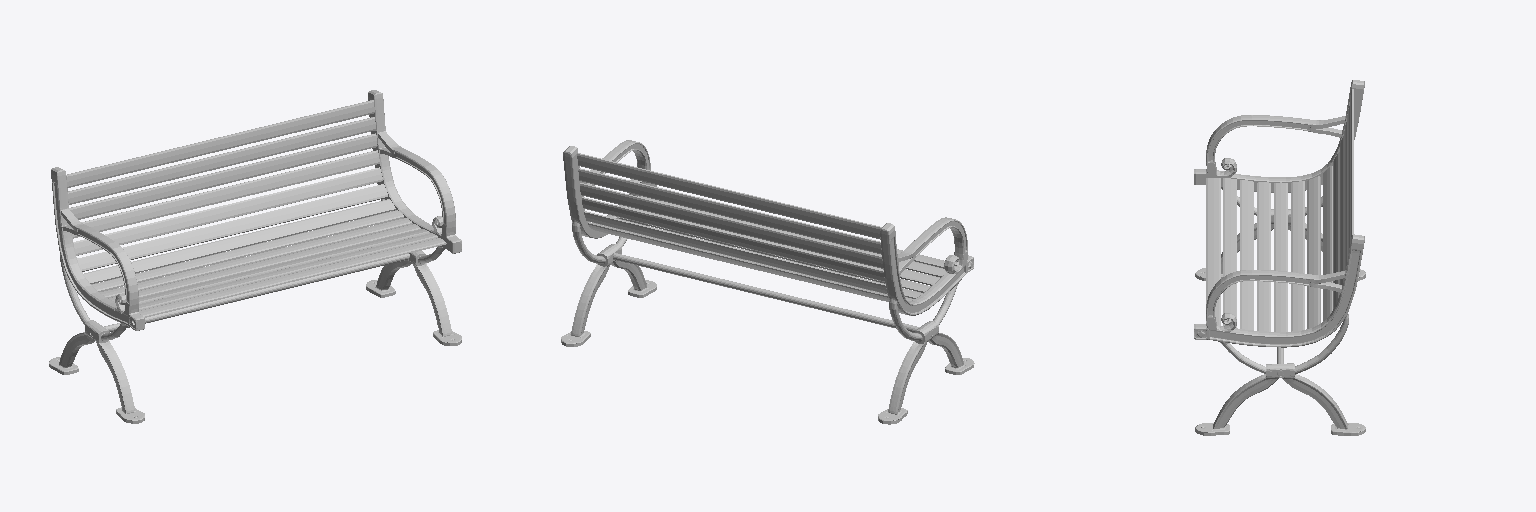
File: Bench N111021.obj
3 views of the same model, side by side, from view 1: azimuth 30°, elevation 25°; view 2: azimuth 150°, elevation 25°; view 3: azimuth 270°, elevation 25° (orthographic).
Visible parts, largest first — view 1: bench; view 2: bench; view 3: bench.
Boxes of the visible parts, box(x1,y1,x2,y2) form: bench: box(49, 90, 461, 423); bench: box(561, 140, 974, 424); bench: box(1194, 80, 1365, 435).
Size of the model in its own units: 1745 by 968 by 775.